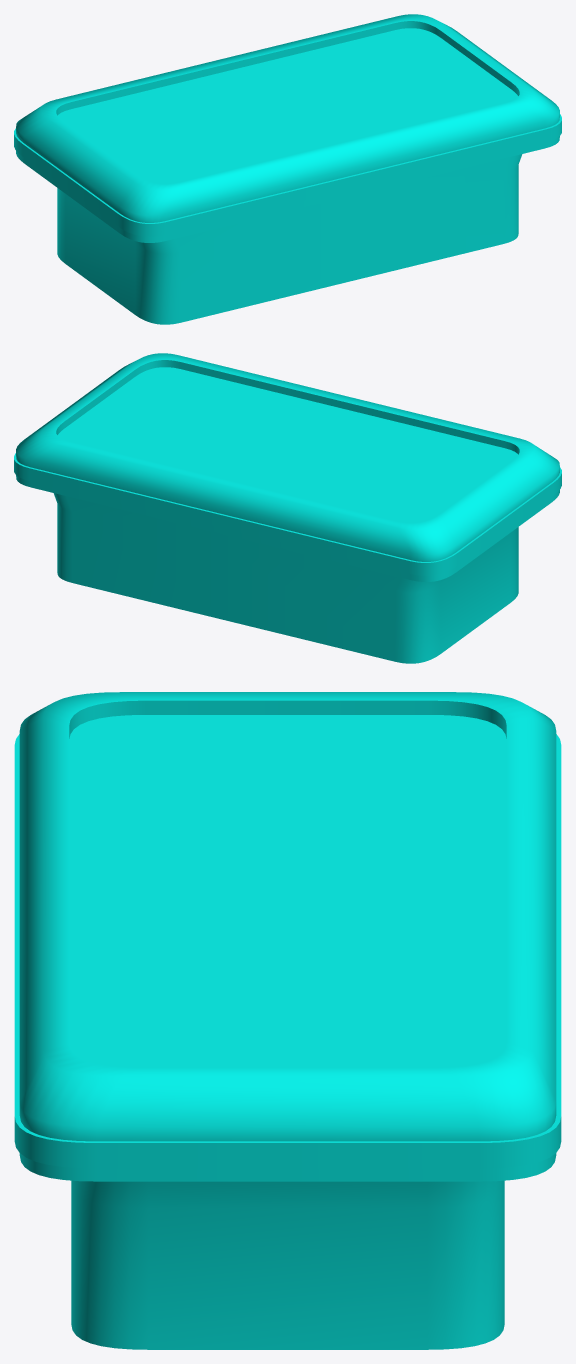
The model's file is desk3.obj.
3 renders of one model, top to bottom at view 1: azimuth 30°, elevation 25°; view 2: azimuth 150°, elevation 25°; view 3: azimuth 270°, elevation 25°, orthographic. The views are drawn at different scales.
Parts seen in each view (by area): view 1: Box044; view 2: Box044; view 3: Box044.
Part boxes in pixels (box(x1,y1,x2,y2)): Box044: box(14, 14, 561, 324); Box044: box(14, 353, 561, 663); Box044: box(14, 692, 561, 1349).
Bounding box in the file's own units: 391 × 121 × 212.
